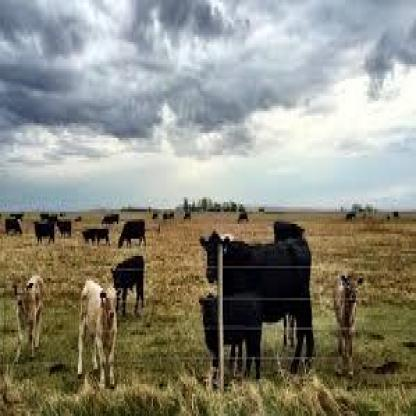cow: (200, 230, 316, 373), (198, 293, 264, 381), (77, 283, 118, 387), (12, 271, 49, 369), (332, 272, 364, 375), (111, 254, 145, 317), (273, 217, 307, 246), (116, 219, 148, 246), (35, 219, 58, 241), (85, 224, 108, 244), (54, 218, 75, 237), (5, 218, 24, 235), (342, 207, 358, 224), (10, 209, 26, 224), (101, 213, 120, 225), (236, 212, 252, 226), (47, 209, 59, 224), (39, 207, 47, 224), (392, 208, 401, 220), (182, 213, 192, 223), (164, 209, 170, 222), (151, 212, 159, 221), (170, 210, 175, 220)
